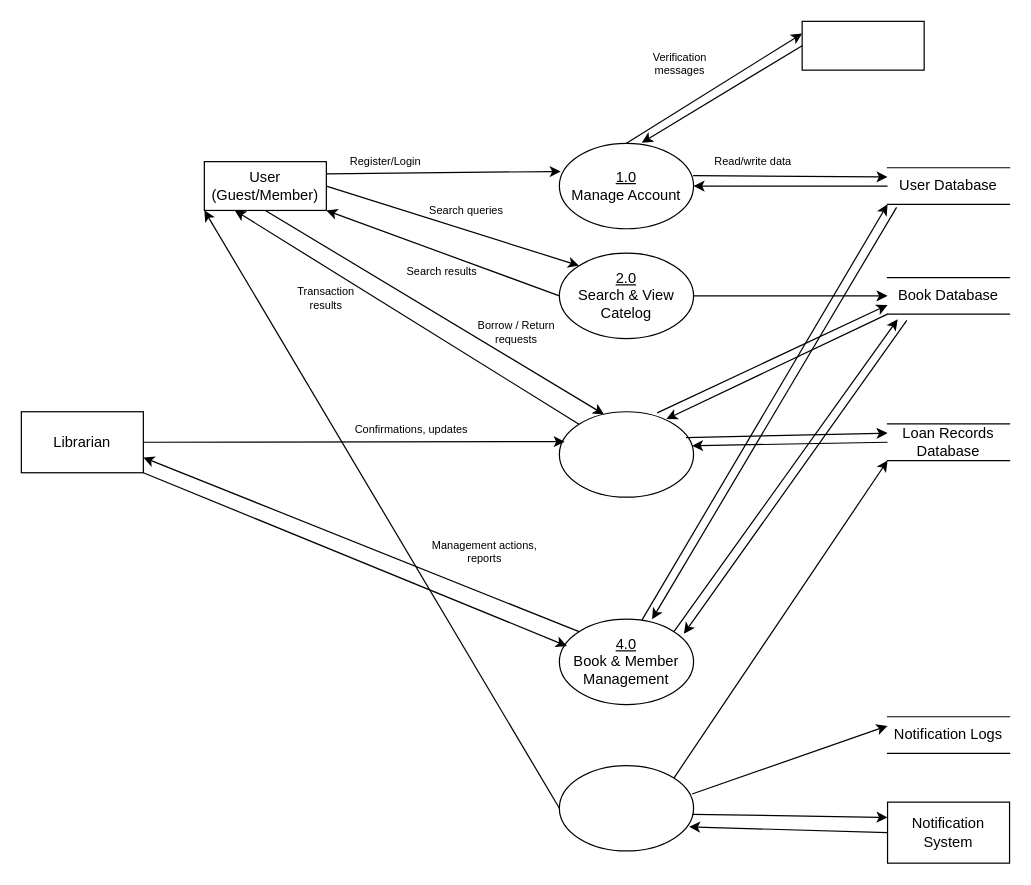
Image size: 1031x885. Some labels were removed from this diagram. Here are the shapes that lost their labels. From the top down, the centre of each, then its label:
(862,45): Email Service
(626,454): 3.0 Borrow & Return Books
(626,807): 5.0 Notification & Reminder
